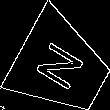N_SE: (32, 37, 92, 97)
